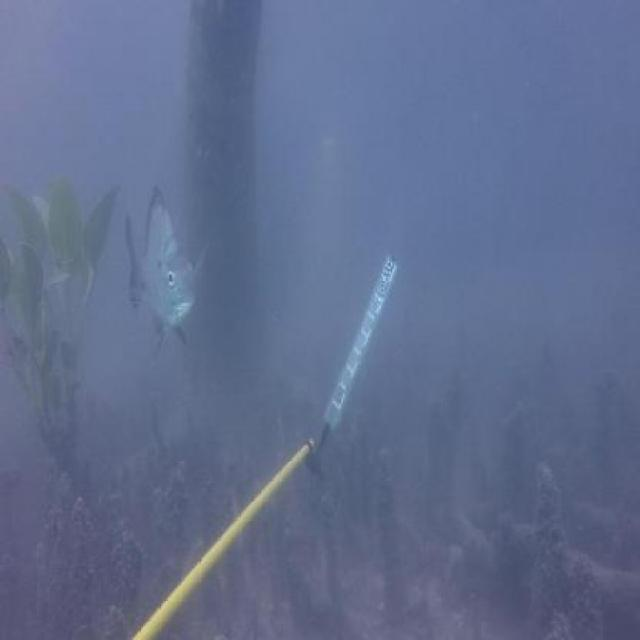acanthopagrus_palmaris: (124, 181, 205, 357)
